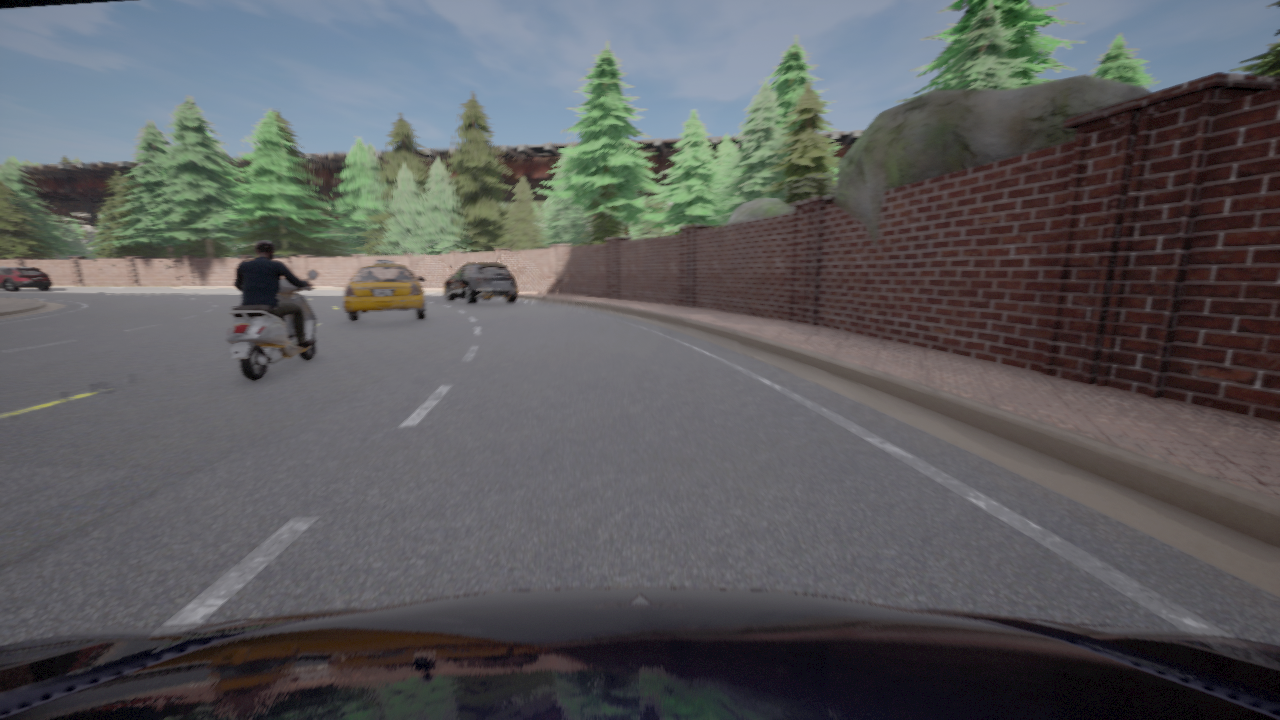cyclist: (0, 588, 1279, 719), (227, 270, 316, 380), (343, 260, 424, 321), (443, 263, 517, 304), (0, 267, 51, 290)
